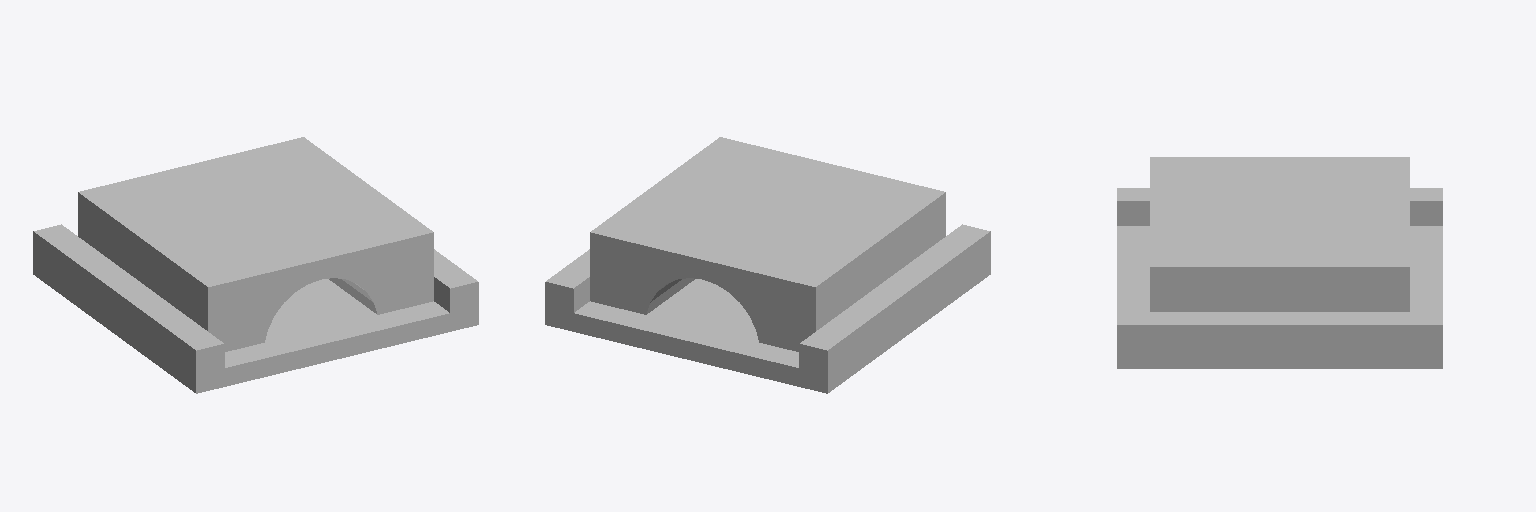
Rendered from tunnelWide.obj.
3 renders of one model, left to right at view 1: azimuth 30°, elevation 25°; view 2: azimuth 150°, elevation 25°; view 3: azimuth 270°, elevation 25°, orthographic.
Parts seen in each view (by area): view 1: tunnelWide; view 2: tunnelWide; view 3: tunnelWide.
Part boxes in pixels (bbox=[...]): tunnelWide: bbox=[33, 137, 478, 393]; tunnelWide: bbox=[545, 137, 990, 393]; tunnelWide: bbox=[1117, 157, 1442, 368].
Size of the model in its own units: 0.9999 by 0.2966 by 0.9999.